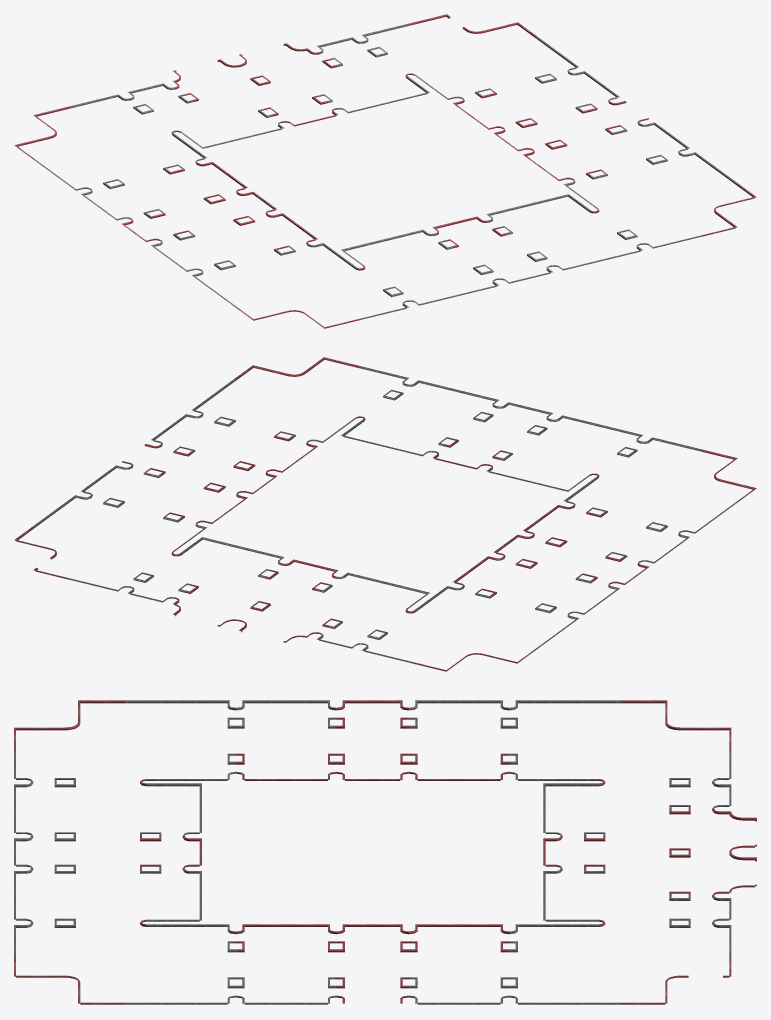
The model's file is corner_guards.fbx.
The picture shows the model from 3 angles, top to bottom: view 1: azimuth 30°, elevation 25°; view 2: azimuth 150°, elevation 25°; view 3: azimuth 270°, elevation 25°; orthographic projection. The views are drawn at different scales.
Parts seen in each view (by area): view 1: corner_guards.001; view 2: corner_guards.001; view 3: corner_guards.001.
Part boxes in pixels (x1,y1,x2,y2): corner_guards.001: [14, 14, 756, 328]; corner_guards.001: [14, 357, 756, 671]; corner_guards.001: [14, 700, 756, 1004].
Size of the model in its own units: 68.54 by 0.204 by 70.99.
3 materials, 3 textured.
